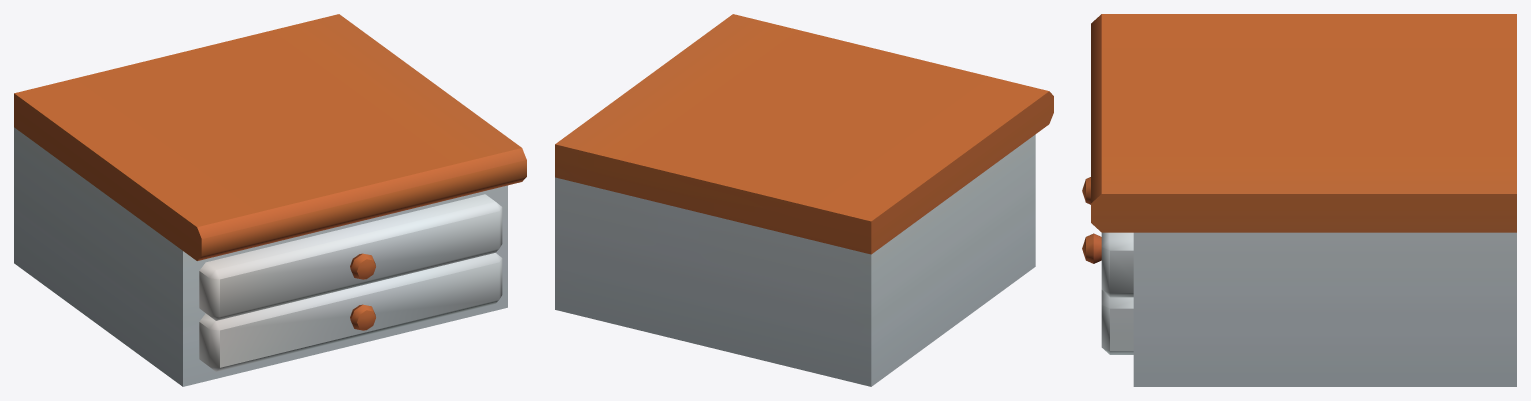
The model's file is kkr.kitchencounter_straight_a.glb.
3 views of the same model, side by side, from view 1: azimuth 30°, elevation 25°; view 2: azimuth 150°, elevation 25°; view 3: azimuth 270°, elevation 25° (orthographic). The views are drawn at different scales.
Parts seen in each view (by area): view 1: kitchencounter_straight_A; view 2: kitchencounter_straight_A; view 3: kitchencounter_straight_A.
Part boxes in pixels (left/top/right/bottom): kitchencounter_straight_A: left=14, top=14, right=526, bottom=386; kitchencounter_straight_A: left=555, top=14, right=1053, bottom=386; kitchencounter_straight_A: left=1082, top=14, right=1516, bottom=386.
Size of the model in its own units: 1.49 by 0.7449 by 1.52.
Materials: 1 (1 with a texture image).
